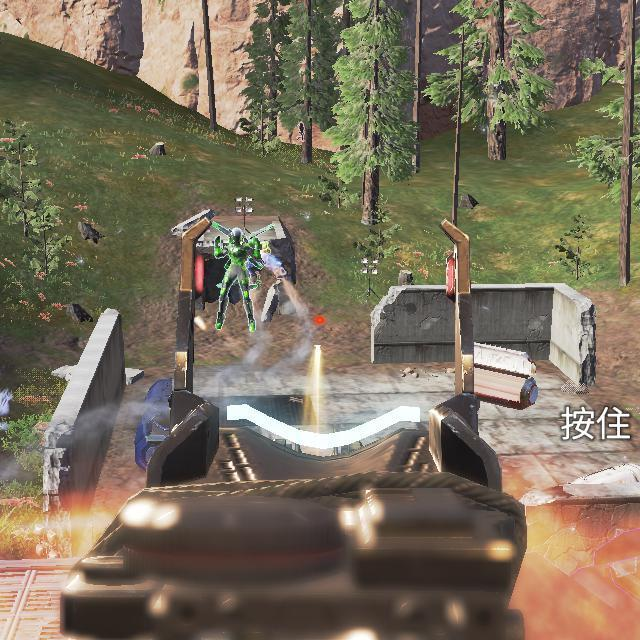avatar: (213, 226, 263, 333)
